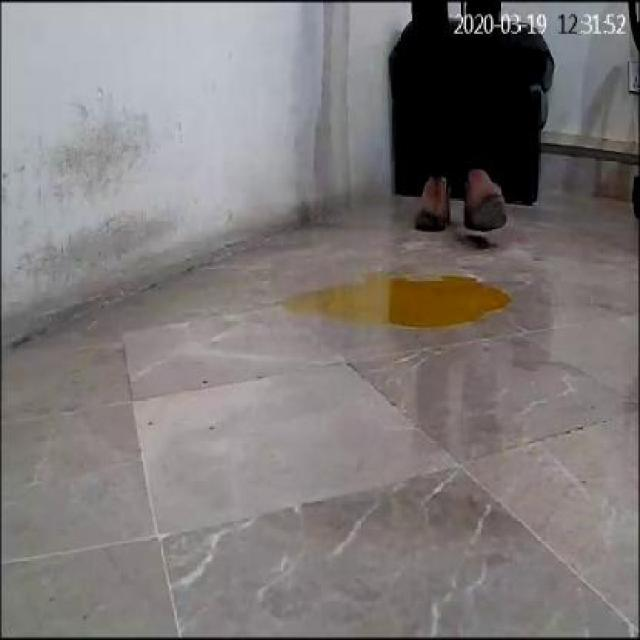spill: (282, 267, 509, 330)
